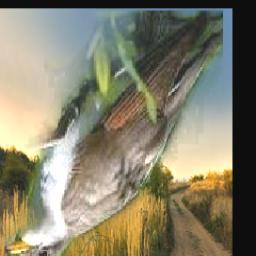Cuckoo: (5, 10, 223, 256)
